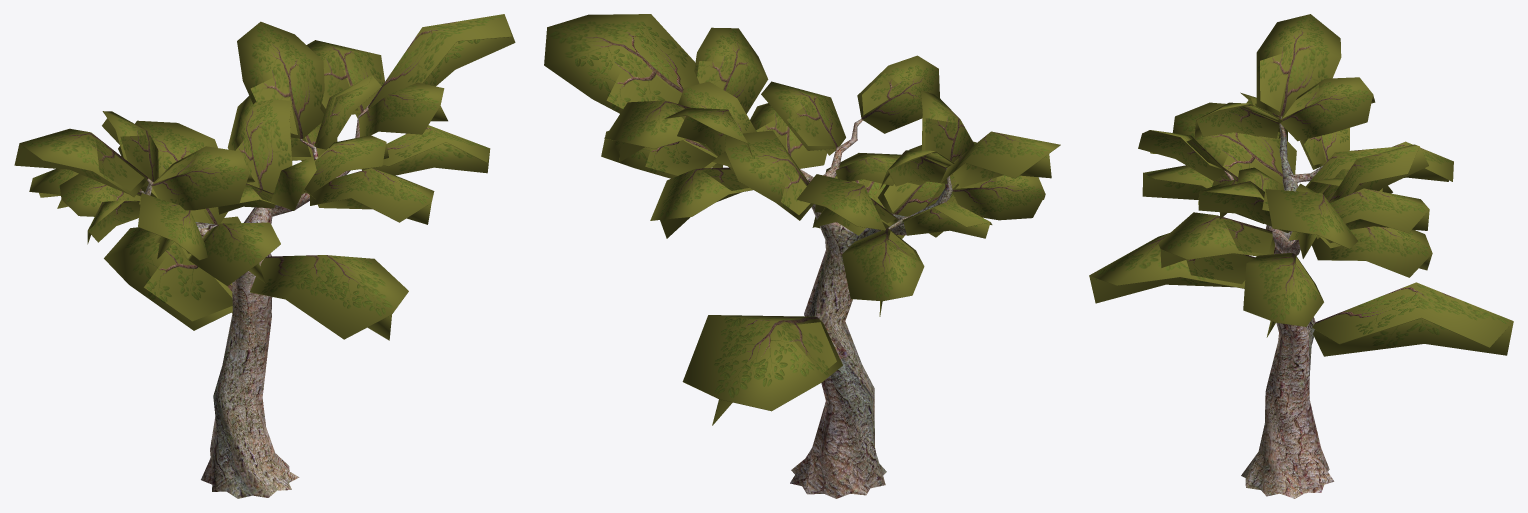
File: low-poly-leaf-tree.obj
3 renders of one model, left to right at view 1: azimuth 30°, elevation 25°; view 2: azimuth 150°, elevation 25°; view 3: azimuth 270°, elevation 25°, orthographic. The views are drawn at different scales.
Visible parts, largest first — view 1: tree_Circle, branch.012_Plane, branch.011_Plane, branch.001_Plane, branch.002_Plane, branch_Plane, branch.005_Plane, branch.013_Plane, branch.003_Plane, branch.014_Plane, branch.009_Plane, branch.015_Plane (+12 smaller); view 2: tree_Circle, branch.011_Plane, branch.002_Plane, branch.006_Plane, branch.013_Plane, branch.004_Plane, branch.005_Plane, branch.015_Plane, branch.020_Plane, branch.016_Plane, branch.010_Plane, branch.021_Plane (+11 smaller); view 3: tree_Circle, branch.011_Plane, branch.005_Plane, branch.012_Plane, branch.014_Plane, branch.023_Plane, branch.003_Plane, branch.022_Plane, branch.002_Plane, branch.020_Plane, branch.021_Plane, branch.001_Plane (+9 smaller).
Part boxes in pixels (left/top/right/bottom): tree_Circle: left=140, top=104, right=369, bottom=498; branch.012_Plane: left=250, top=255, right=408, bottom=340; branch.011_Plane: left=104, top=216, right=241, bottom=330; branch.001_Plane: left=237, top=21, right=324, bottom=139; branch.002_Plane: left=367, top=14, right=515, bottom=108; branch_Plane: left=151, top=146, right=254, bottom=210; branch.005_Plane: left=14, top=128, right=148, bottom=197; branch.013_Plane: left=227, top=96, right=292, bottom=193; branch.003_Plane: left=310, top=168, right=434, bottom=224; branch.014_Plane: left=361, top=125, right=490, bottom=175; branch.009_Plane: left=188, top=222, right=280, bottom=286; branch.015_Plane: left=358, top=82, right=447, bottom=137; tree_Circle: left=790, top=119, right=952, bottom=498; branch.011_Plane: left=682, top=315, right=842, bottom=425; branch.002_Plane: left=544, top=14, right=699, bottom=113; branch.006_Plane: left=842, top=228, right=924, bottom=316; branch.013_Plane: left=712, top=130, right=813, bottom=220; branch.004_Plane: left=857, top=55, right=939, bottom=133; branch.005_Plane: left=940, top=131, right=1060, bottom=187; branch.015_Plane: left=694, top=27, right=768, bottom=113; branch.020_Plane: left=650, top=167, right=752, bottom=238; branch.016_Plane: left=761, top=81, right=845, bottom=155; branch.010_Plane: left=952, top=175, right=1045, bottom=220; branch.021_Plane: left=604, top=100, right=690, bottom=162; tree_Circle: left=1224, top=116, right=1334, bottom=498; branch.011_Plane: left=1312, top=282, right=1513, bottom=356; branch.005_Plane: left=1256, top=14, right=1341, bottom=116; branch.012_Plane: left=1089, top=233, right=1254, bottom=303; branch.014_Plane: left=1243, top=253, right=1323, bottom=337; branch.023_Plane: left=1280, top=77, right=1375, bottom=141; branch.003_Plane: left=1158, top=212, right=1274, bottom=267; branch.022_Plane: left=1172, top=102, right=1296, bottom=190; branch.002_Plane: left=1262, top=189, right=1357, bottom=258; branch.020_Plane: left=1311, top=226, right=1432, bottom=277; branch.021_Plane: left=1330, top=188, right=1429, bottom=232; branch.001_Plane: left=1329, top=144, right=1428, bottom=202.
Bounding box in the file's own units: 11.56 × 8.89 × 8.98.
